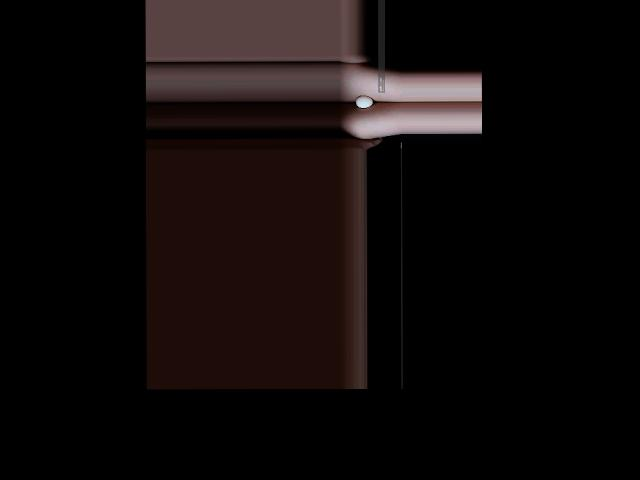egg: (356, 95, 373, 108)
